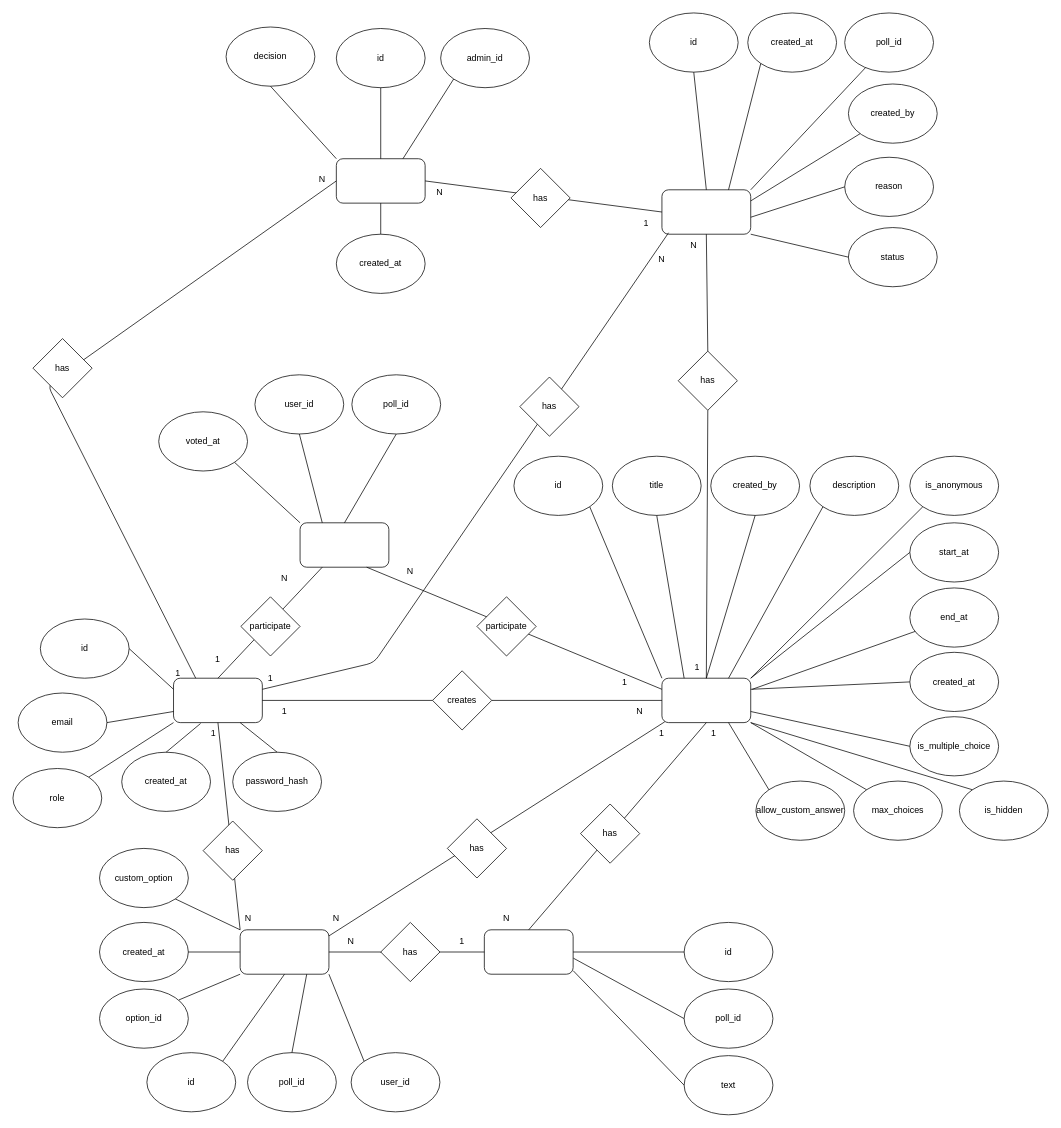
Some shapes in this 1061 by 1128 pixel diagram are drawn without their labels. Here are the shapes that lost their labels. From the top down, the box of each, then its label:
(336, 158, 425, 203): Report_review
(661, 189, 751, 234): Report
(299, 522, 389, 567): Poll Participants
(173, 677, 262, 723): User
(661, 677, 751, 723): Poll
(239, 929, 329, 974): Vote
(484, 929, 573, 974): Option
